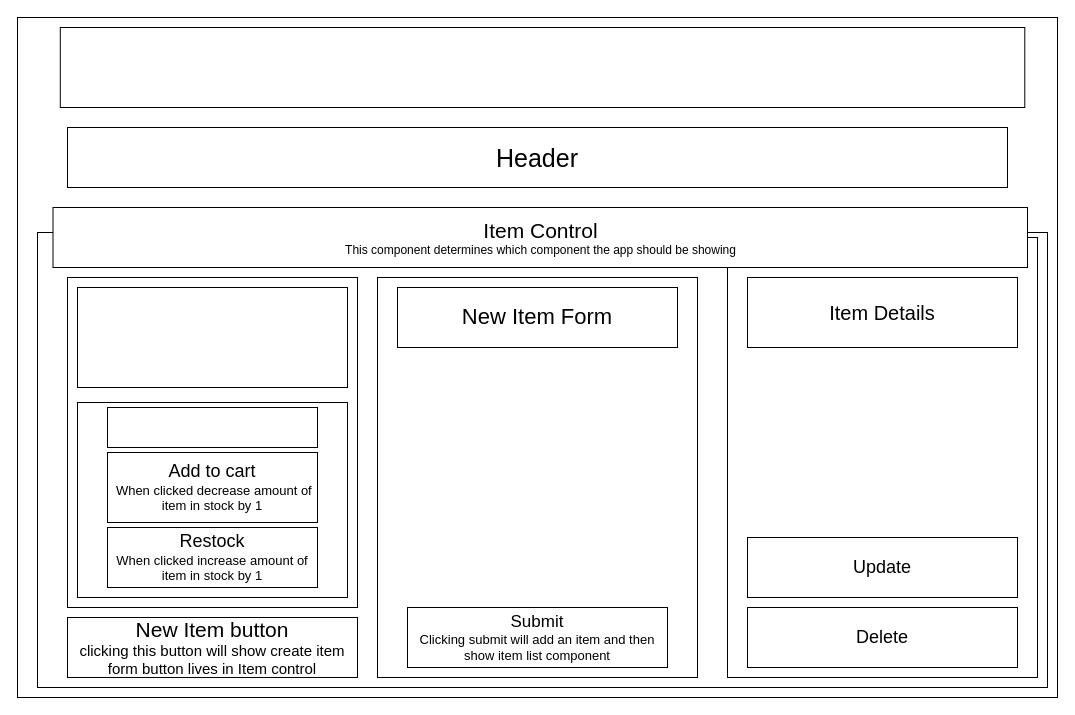
Some shapes in this 1075 by 715 pixel diagram are drawn without their labels. The centre of each missing label's shape, as x and y in pixels:
"App Work in progress doesn't display read/update/delete functionality" belongs at (542,67).
"Item" belongs at (212,427).
"Item List Clicking on item will show item details" belongs at (212,337).
